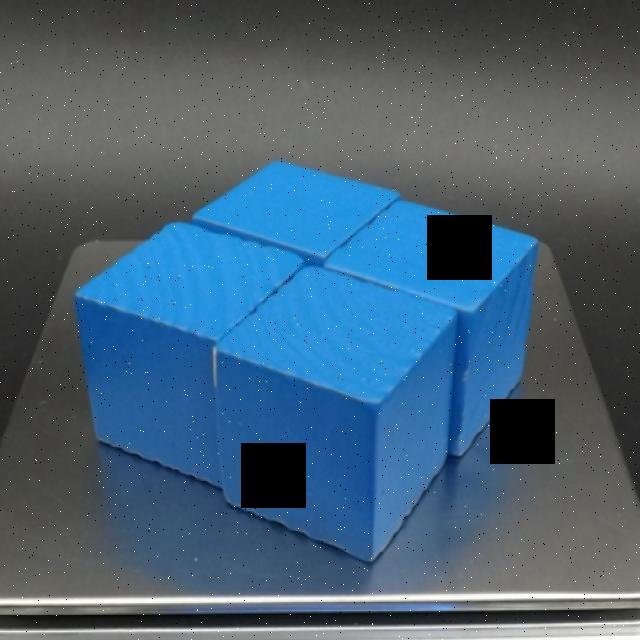bluecube: (211, 266, 459, 562), (74, 219, 308, 489), (322, 197, 538, 457), (191, 157, 402, 269)
